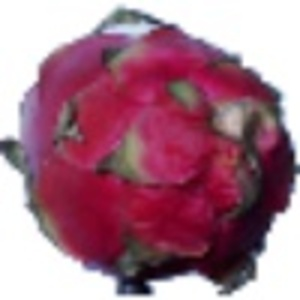pitaia: (1, 4, 300, 299)
